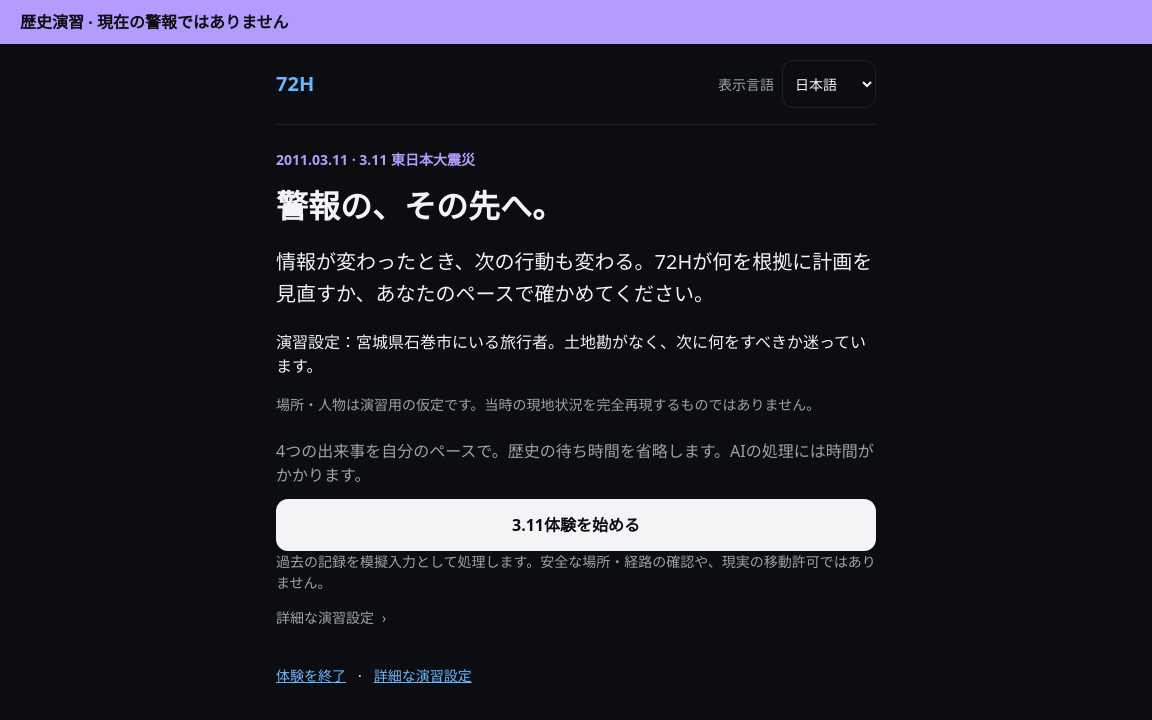
Scenario: 311 judge experience › expires a plan while the page remains open and makes no automatic step requests
The image size is (1152, 720).
Step 1. Click the button with test id "judge-start" → (576, 525), box [276, 499, 876, 551]
Wait 1000 ms
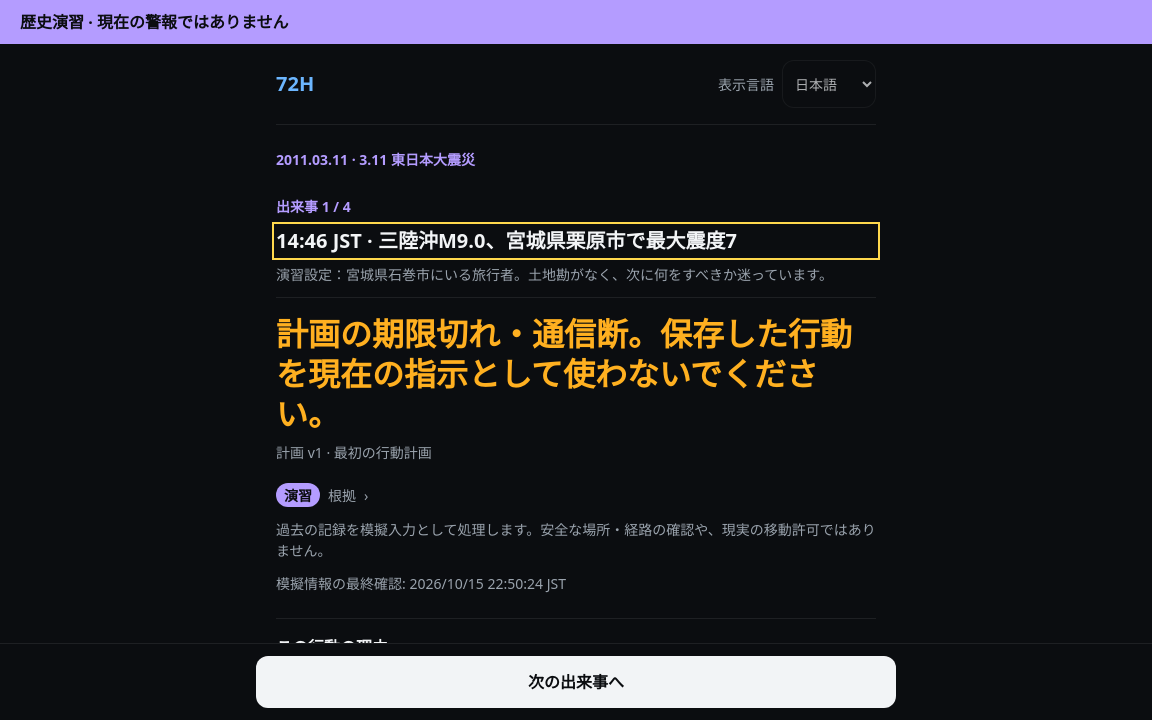
Expected: the heading "計画の期限切れ・通信断。保存した行動を現在の指示として使わないでください。" is shown, [276, 314, 876, 434]
